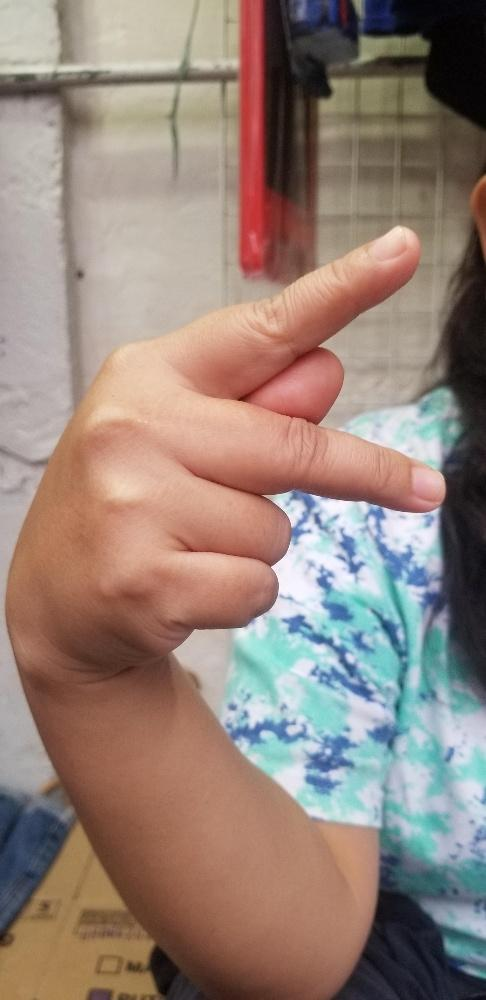k: (23, 222, 446, 680)
